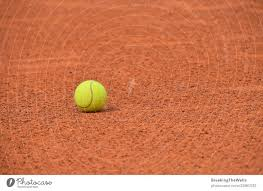tennis_ball: (73, 79, 106, 113)
